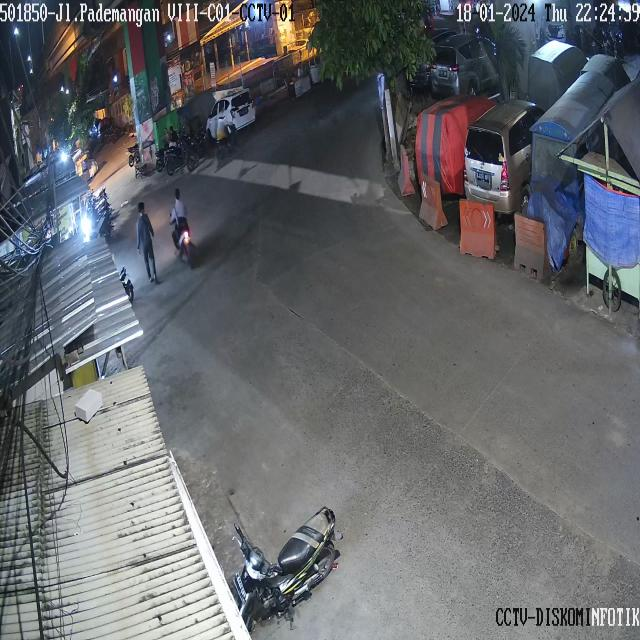Terpal: (578, 171, 636, 260), (412, 108, 463, 179)
